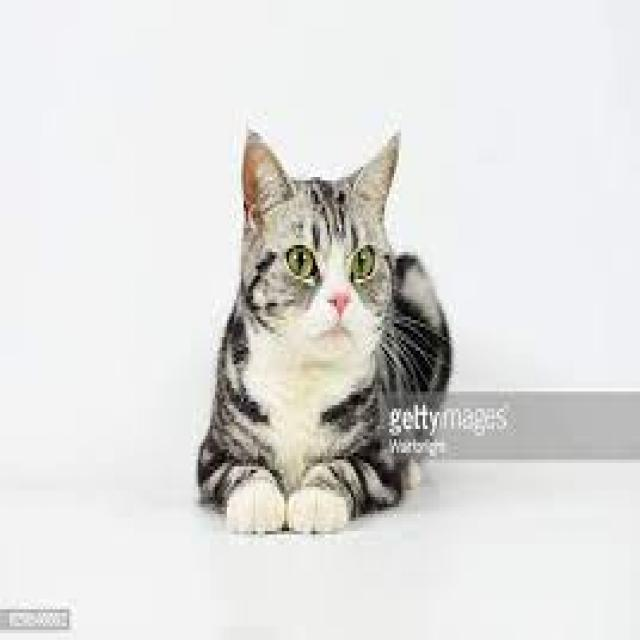Cat: (195, 123, 455, 541)
